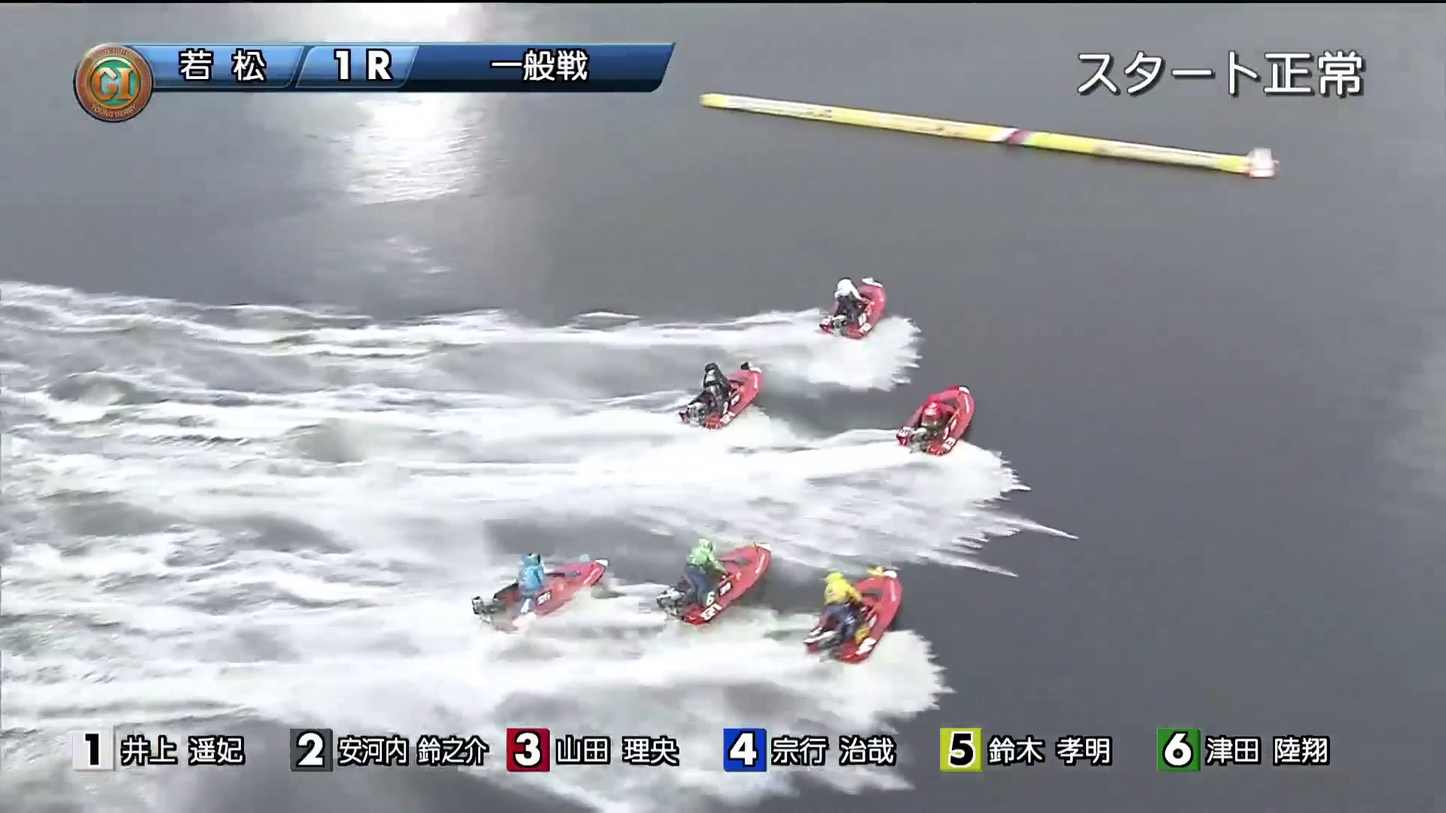１号艇: (807, 277, 933, 331)
２号艇: (658, 354, 787, 414)
３号艇: (889, 398, 1022, 445)
４号艇: (635, 542, 769, 607)
５号艇: (449, 557, 573, 612)
６号艇: (805, 572, 904, 629)
